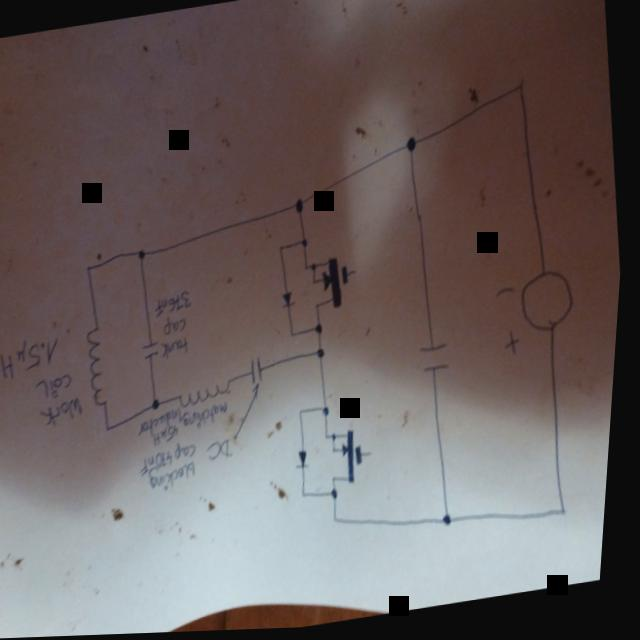capacitor: (420, 341, 458, 380), (252, 359, 269, 387), (145, 341, 166, 363)
diode: (298, 449, 318, 474), (282, 291, 301, 312)
inductor: (85, 325, 118, 409), (182, 379, 240, 411)
junction: (446, 515, 461, 532), (407, 138, 420, 157), (295, 199, 308, 216), (138, 249, 151, 264), (563, 508, 576, 523), (155, 398, 167, 414), (318, 349, 331, 363), (516, 82, 527, 96), (318, 325, 329, 338), (325, 407, 336, 420), (302, 239, 312, 251), (337, 491, 346, 504), (87, 264, 97, 275), (109, 425, 117, 435), (302, 410, 310, 420), (280, 246, 288, 255), (339, 519, 346, 528), (307, 493, 314, 502), (293, 333, 300, 342)
source: (517, 269, 586, 340)
terminal: (372, 452, 380, 463), (355, 269, 362, 278)
text: (0, 334, 66, 382), (143, 441, 206, 479), (152, 461, 204, 496), (41, 396, 90, 431), (185, 403, 235, 433), (140, 409, 190, 437), (37, 372, 79, 403), (155, 291, 198, 320), (210, 437, 241, 464), (164, 337, 195, 360), (157, 425, 186, 447), (166, 316, 193, 338)
transistor: (303, 254, 357, 317), (326, 429, 374, 490)
